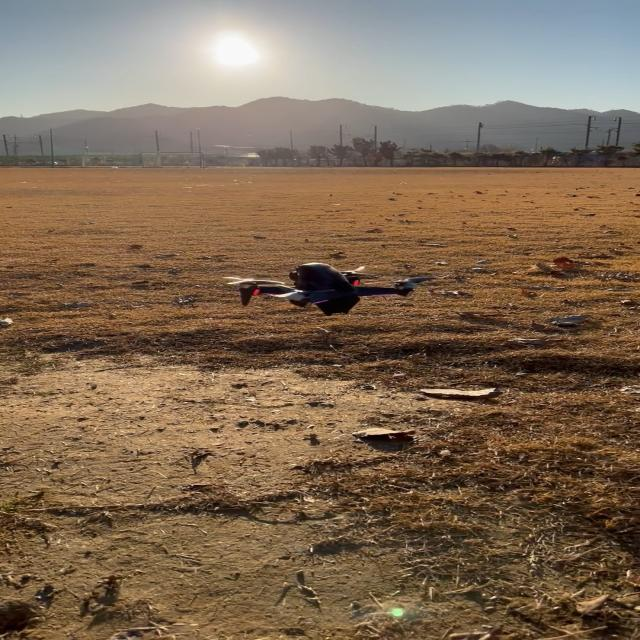drone: (220, 261, 435, 316)
